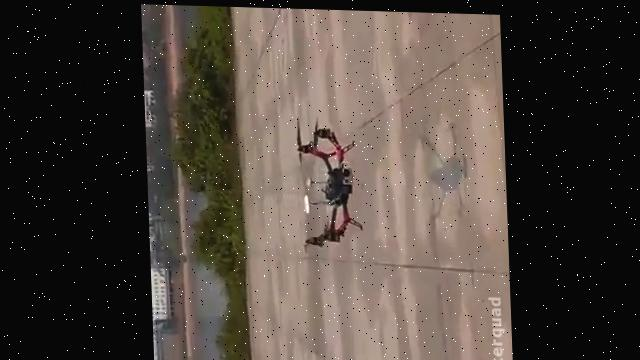drone: (287, 114, 364, 257)
